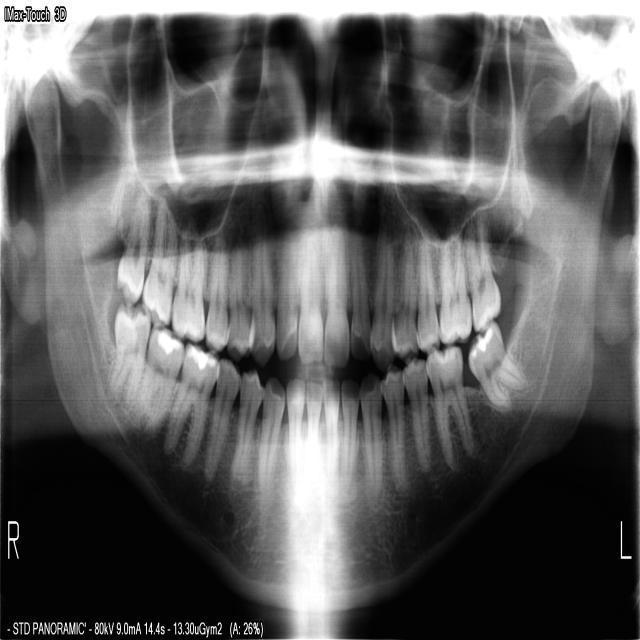LCD: (360, 368, 382, 505)
LCU: (370, 215, 394, 371)
LID: (340, 375, 360, 496), (323, 374, 339, 508)
LIU: (323, 212, 349, 370), (349, 211, 369, 364)
LMD: (428, 346, 476, 477), (466, 321, 531, 414)
LMU: (464, 210, 502, 335), (437, 225, 471, 347)
LPMD: (382, 366, 409, 500), (403, 357, 432, 475)
LPMU: (393, 221, 418, 361), (416, 223, 438, 353)
RCD: (254, 371, 284, 511)
RCU: (248, 197, 273, 367)
RID: (284, 374, 303, 506), (304, 376, 322, 492)
RIU: (295, 207, 323, 365), (274, 210, 298, 363)
RMD: (160, 343, 217, 476), (128, 324, 182, 443), (101, 298, 150, 419)
RMU: (140, 189, 176, 325), (113, 178, 150, 307), (169, 209, 203, 344)
RPMD: (201, 355, 238, 489), (227, 366, 261, 492)
RPMU: (224, 206, 248, 363), (202, 211, 227, 353)
